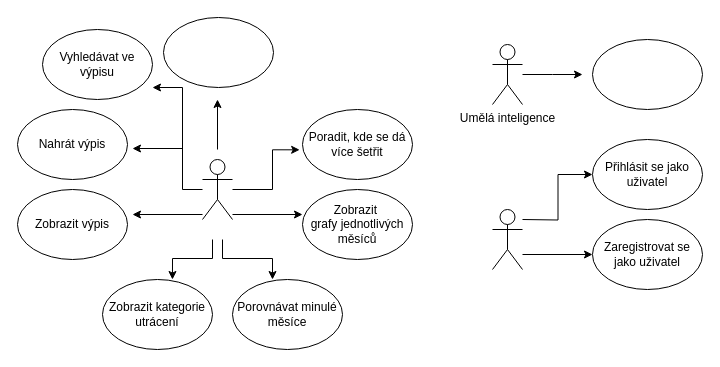
Image size: 720x367. Some labels were removed from this diagram. Here are the shapes that lost their labels. From the top down, the box of each, then its label:
(162, 16, 274, 88): Označit zbytné/nezbytné výdaje
(592, 38, 702, 110): Zanalyzovat výpis
(202, 158, 232, 220): Uživatel
(492, 208, 522, 270): Návštěvník
